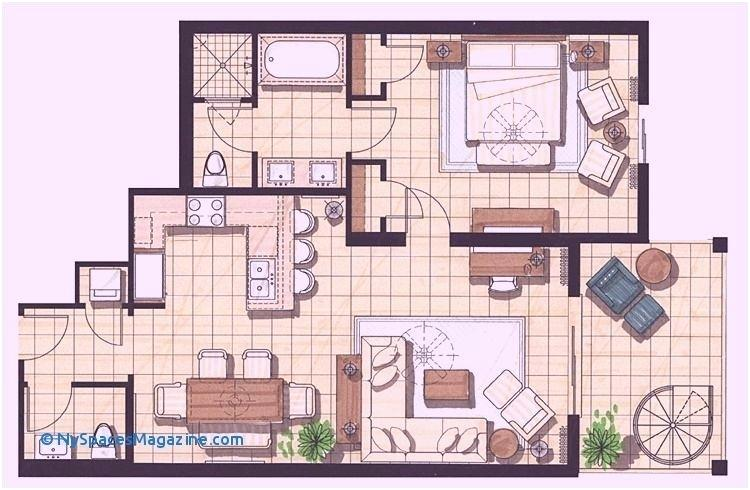door: (355, 101, 399, 144), (29, 313, 69, 357), (84, 310, 124, 354), (23, 387, 63, 431), (390, 37, 426, 82), (406, 180, 442, 225)
room: (343, 19, 651, 250), (125, 182, 360, 481), (176, 13, 355, 197), (13, 378, 137, 484)
